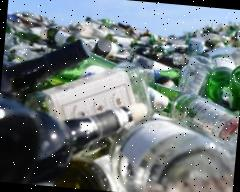glass: (0, 30, 160, 192)
